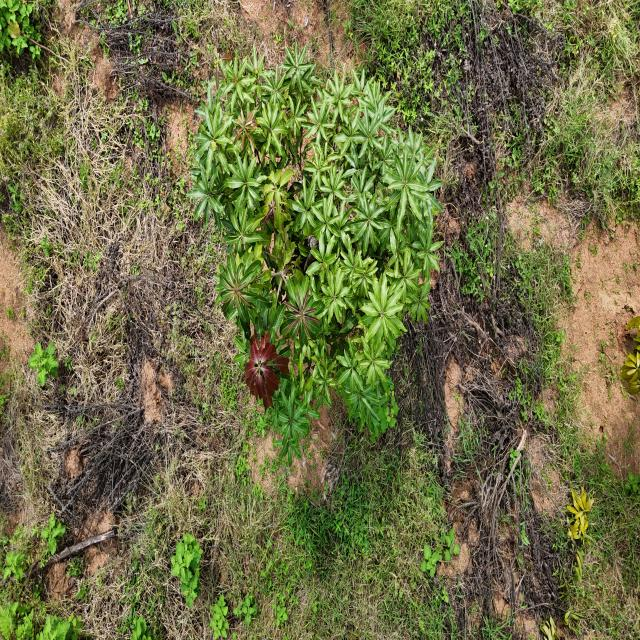mangoTree: (183, 39, 447, 468)
notMangoTree: (0, 0, 53, 62)
